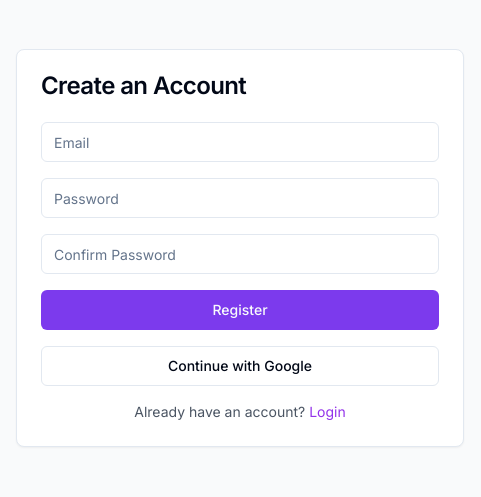
RegisterPage › shows error when password is too short
Type "test@example.com" into the field with placeholder "Email" at [240, 142], box [41, 122, 439, 162]
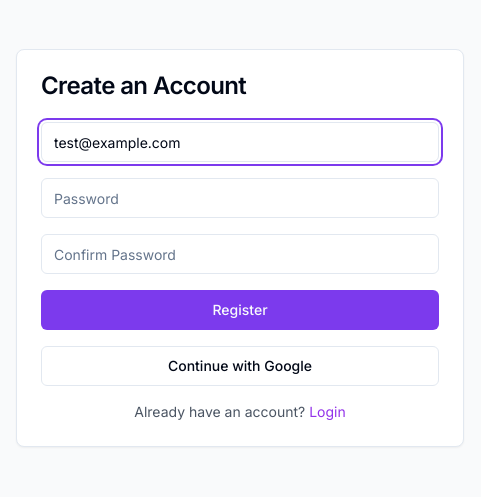
Type "12345" into the password field with placeholder "Password" at [240, 198], box [41, 178, 439, 218]
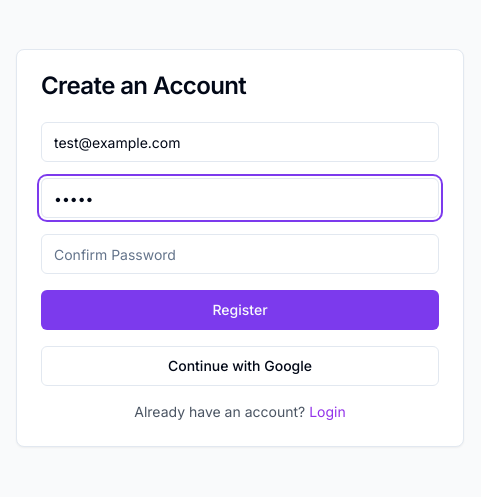
Type "12345" into the password field with placeholder "Confirm Password" at [240, 254], box [41, 234, 439, 274]
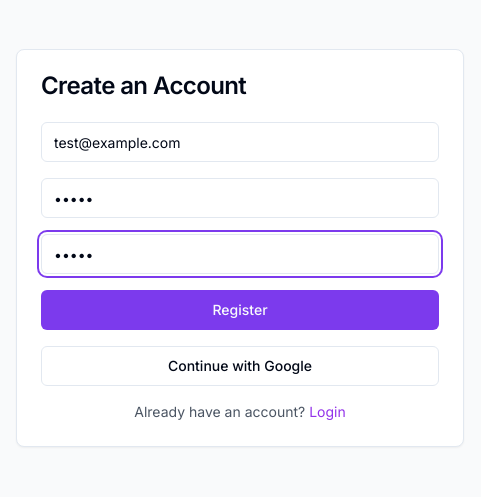
Click the button "Register" at [240, 310], box [41, 290, 439, 330]
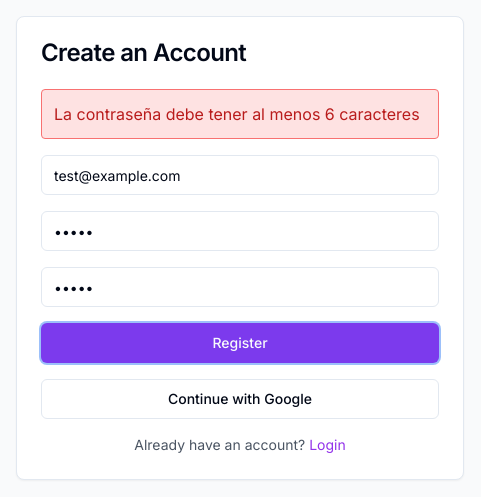
Expected: the text "La contraseña debe tener al menos 6 caracteres" is shown, [41, 89, 439, 139]
